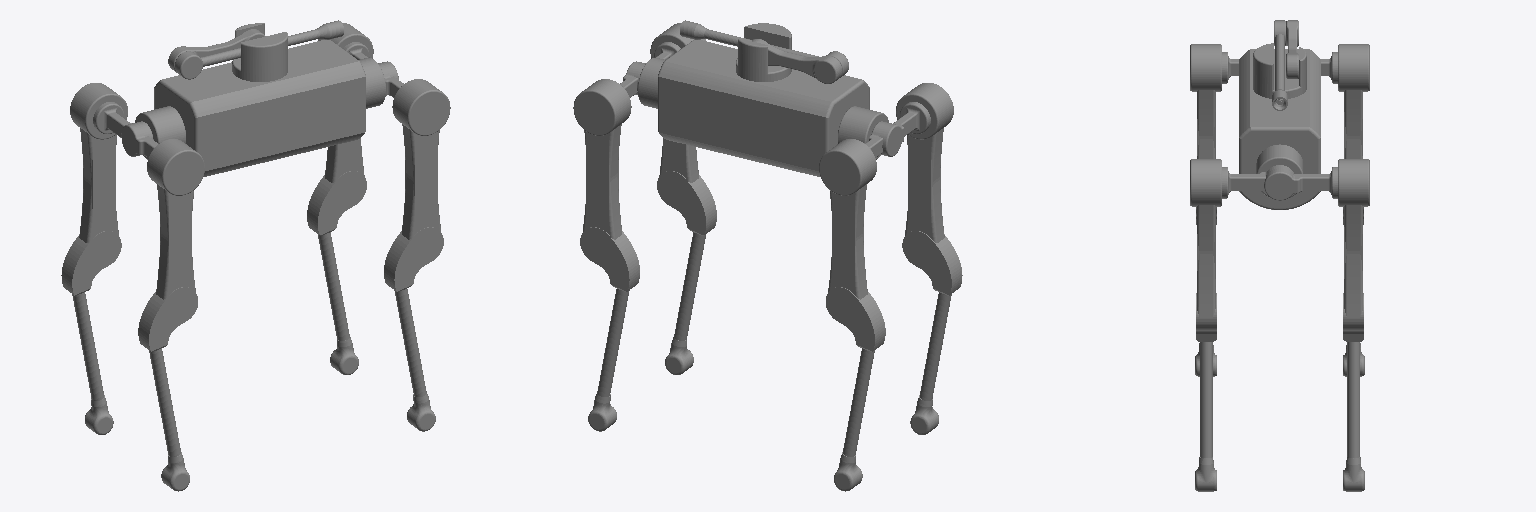
--- Render facts (derived) ---
3 views of the same robot in one strip: view 1: azimuth 30°, elevation 25°; view 2: azimuth 150°, elevation 25°; view 3: azimuth 270°, elevation 25° (orthographic).
Robot: argos — 25 links, 24 joints (12 revolute, 12 fixed); root link argos/base_link; default pose: every joint at zero.
Visible links, largest first — view 1: argos/base_link, LF_lower_leg, RF_lower_leg, LH_lower_leg, RH_lower_leg, LH_upper_leg, RF_upper_leg, RH_upper_leg, RH_hip, RF_hip, LH_hip, manipulator_joint (+4 smaller); view 2: argos/base_link, RF_lower_leg, LF_lower_leg, LH_lower_leg, RH_lower_leg, RH_upper_leg, LF_upper_leg, LH_upper_leg, RH_hip, LF_hip, LH_hip, manipulator_joint (+4 smaller); view 3: argos/base_link, LF_hip, LF_lower_leg, RF_lower_leg, RF_hip, LF_upper_leg, RF_upper_leg, LH_hip, RH_hip, manipulator_joint, LH_upper_leg, RH_upper_leg (+2 smaller).
Boxes of the visible links, left/top/right/bottom form: argos/base_link: left=135, top=40, right=385, bottom=176; LF_lower_leg: left=307, top=171, right=366, bottom=374; RF_lower_leg: left=384, top=227, right=443, bottom=431; LH_lower_leg: left=61, top=231, right=121, bottom=434; RH_lower_leg: left=138, top=287, right=197, bottom=491; LH_upper_leg: left=79, top=128, right=118, bottom=242; RF_upper_leg: left=402, top=124, right=440, bottom=239; RH_upper_leg: left=156, top=184, right=195, bottom=299; RH_hip: left=121, top=123, right=204, bottom=195; RF_hip: left=378, top=63, right=450, bottom=135; LH_hip: left=70, top=83, right=153, bottom=139; manipulator_joint: left=232, top=23, right=287, bottom=81; argos/base_link: left=638, top=40, right=888, bottom=176; RF_lower_leg: left=657, top=171, right=716, bottom=374; LF_lower_leg: left=580, top=227, right=639, bottom=431; LH_lower_leg: left=826, top=287, right=885, bottom=491; RH_lower_leg: left=902, top=231, right=962, bottom=434; RH_upper_leg: left=905, top=128, right=944, bottom=242; LF_upper_leg: left=583, top=124, right=621, bottom=239; LH_upper_leg: left=828, top=184, right=867, bottom=299; RH_hip: left=879, top=83, right=953, bottom=156; LF_hip: left=573, top=61, right=642, bottom=135; LH_hip: left=819, top=121, right=887, bottom=195; manipulator_joint: left=736, top=23, right=791, bottom=81; argos/base_link: left=1239, top=49, right=1320, bottom=209; LF_hip: left=1264, top=159, right=1369, bottom=206; LF_lower_leg: left=1343, top=293, right=1364, bottom=491; RF_lower_leg: left=1195, top=293, right=1216, bottom=491; RF_hip: left=1190, top=159, right=1293, bottom=206; LF_upper_leg: left=1344, top=205, right=1362, bottom=317; RF_upper_leg: left=1197, top=205, right=1215, bottom=317; LH_hip: left=1321, top=44, right=1369, bottom=91; RH_hip: left=1190, top=44, right=1238, bottom=91; manipulator_joint: left=1253, top=43, right=1306, bottom=98; LH_upper_leg: left=1344, top=90, right=1362, bottom=158; RH_upper_leg: left=1197, top=90, right=1215, bottom=158.
Bounding box of the posed robot: 1.05 × 0.5666 × 1.32 m (x, y, z).
16 mesh visuals loaded from 8 distinct referenced files (7 Collada DAE); not drawn: 1 (reference not matched to a file when rendering).

The robot description file, URDF, robot "argos":
<?xml version="1.0" ?>
<!-- =================================================================================== -->
<!-- |    This document was autogenerated by xacro from argos.urdf.xacro               | -->
<!-- |    EDITING THIS FILE BY HAND IS NOT RECOMMENDED                                 | -->
<!-- =================================================================================== -->
<robot name="argos">
  <link name="argos/base_link">
    <visual>
      <geometry>
        <mesh filename="package://mini_project/meshes/body.dae" scale="0.001 0.001 0.001"/>
      </geometry>
      <origin rpy="1.570796326794895 0 0" xyz="0.0 0.0 0.0"/>
    </visual>
    <collision>
      <geometry>
        <mesh filename="package://mini_project/meshes/body.dae" scale="0.001 0.001 0.001"/>
      </geometry>
      <origin rpy="1.570796326794895 0 0" xyz="0.0 0.0 0.0"/>
    </collision>
  </link>
  <link name="base_inertia">
    <inertial>
      <origin xyz="0 0 -0.00722624877"/>
      <mass value="44.88560358"/>
      <inertia ixx="0.47331170488629" ixy="0.0" ixz="0.0" iyy="1.92964600184763" iyz="0.0" izz="1.88984590052932"/>
    </inertial>
  </link>
  <joint name="base_link_to_base_inertia" type="fixed">
    <parent link="argos/base_link"/>
    <child link="base_inertia"/>
    <origin rpy="0 0 0" xyz="0 0 0"/>
  </joint>
  <material name="zed_mat">
    <color rgba="0.8 0.8 0.8 0.8"/>
  </material>
  <material name="zedm_mat">
    <color rgba="0 0 0 0.9"/>
  </material>
  <material name="zed2_mat">
    <color rgba="0.25 0.25 0.25 0.99"/>
  </material>
  <material name="zed2i_mat">
    <color rgba="0.25 0.25 0.25 0.99"/>
  </material>
  <!-- Arguments -->
  <!-- Camera Center -->
  <joint name="camera_center_joint" type="fixed">
    <parent link="argos/base_link"/>
    <child link="camera_center"/>
    <origin rpy="0.0 0.0 0.0" xyz="0.31 0.0 0.12"/>
  </joint>
  <link name="camera_center">
    <visual>
      <origin rpy="0 0 0" xyz="0 0 0"/>
      <geometry>
        <mesh filename="package://mini_project/meshes/zed2.stl"/>
      </geometry>
      <material name="zed2_mat"/>
    </visual>
  </link>
  <!-- Left Camera -->
  <joint name="left_camera_joint" type="fixed">
    <parent link="camera_center"/>
    <child link="left_camera_frame"/>
    <origin rpy="0 0 0" xyz="0 0.06 0"/>
  </joint>
  <link name="left_camera_frame"/>
  <joint name="left_camera_optical_joint" type="fixed">
    <origin rpy="-1.5707963267948966 0.0 -1.5707963267948966" xyz="0 0 0"/>
    <parent link="left_camera_frame"/>
    <child link="left_camera_optical_frame"/>
  </joint>
  <link name="left_camera_optical_frame"/>
  <gazebo reference="camera_center">
    <sensor name="stereo_camera" type="multicamera">
      <update_rate>30.0</update_rate>
      <camera name="left">
        <pose>0 0.06 0 0 0 0</pose>
        <horizontal_fov>1.91986218</horizontal_fov>
        <vertical_fov>1.22173048</vertical_fov>
        <diagonal_fov>2.0943951</diagonal_fov>
        <image>
          <width>1920</width>
          <height>1080</height>
          <format>B8G8R8</format>
        </image>
        <clip>
          <near>0.2</near>
          <far>20</far>
        </clip>
        <noise>
          <type>gaussian</type>
          <mean>0.0</mean>
          <stddev>0.007</stddev>
        </noise>
      </camera>
      <camera name="right">
        <pose>0 -0.06 0 0 0 0</pose>
        <horizontal_fov>1.91986218</horizontal_fov>
        <vertical_fov>1.22173048</vertical_fov>
        <diagonal_fov>2.0943951</diagonal_fov>
        <image>
          <width>1920</width>
          <height>1080</height>
          <format>B8G8R8</format>
        </image>
        <clip>
          <near>0.2</near>
          <far>20</far>
        </clip>
        <noise>
          <type>gaussian</type>
          <mean>0.0</mean>
          <stddev>0.007</stddev>
        </noise>
      </camera>
      <plugin filename="libgazebo_ros_multicamera.so" name="stereo_camera_controller">
        <alwaysOn>true</alwaysOn>
        <updateRate>0.0</updateRate>
        <cameraName>camera</cameraName>
        <imageTopicName>image_raw</imageTopicName>
        <cameraInfoTopicName>camera_info</cameraInfoTopicName>
        <frameName>camera_center</frameName>
        <!--<rightFrameName>right_camera_optical_frame</rightFrameName>-->
        <hackBaseline>0.07</hackBaseline>
        <distortionK1>0.0</distortionK1>
        <distortionK2>0.0</distortionK2>
        <distortionK3>0.0</distortionK3>
        <distortionT1>0.0</distortionT1>
        <distortionT2>0.0</distortionT2>
      </plugin>
    </sensor>
  </gazebo>
  <gazebo>
    <plugin filename="libhector_gazebo_ros_imu.so" name="imu_controller">
      <updateRate>50.0</updateRate>
      <bodyName>imu_link</bodyName>
      <topicName>imu/data</topicName>
      <accelDrift>0.005 0.005 0.005</accelDrift>
      <accelGaussianNoise>0.005 0.005 0.005</accelGaussianNoise>
      <rateDrift>0.005 0.005 0.005 </rateDrift>
      <rateGaussianNoise>0.005 0.005 0.005 </rateGaussianNoise>
      <headingDrift>0.005</headingDrift>
      <headingGaussianNoise>0.005</headingGaussianNoise>
    </plugin>
  </gazebo>
  <link name="imu_link">
    <inertial>
      <mass value="0.001"/>
      <origin rpy="0 0 0" xyz="0 0 0"/>
      <inertia ixx="1e-09" ixy="0.0" ixz="0.0" iyy="1e-09" iyz="0.0" izz="1e-09"/>
    </inertial>
  </link>
  <joint name="imu_joint" type="fixed">
    <parent link="argos/base_link"/>
    <child link="imu_link"/>
  </joint>
  <gazebo reference="argos/base_link">
    <material>Gazebo/FlatBlack</material>
  </gazebo>
  <link name="LF_hip">
    <inertial>
      <origin rpy="0 0 0" xyz="0.0016034699 0.19560047521 0.0"/>
      <mass value="2.3384038"/>
      <inertia ixx="0.01771591024568" ixy="-0.0007189101332" ixz="5.151e-11" iyy="0.00540298667217" iyz="1.6635e-10" izz="0.0176133294309"/>
    </inertial>
    <visual>
      <geometry>
        <mesh filename="package://mini_project/meshes/thigh.dae" scale="0.001 0.001 0.001"/>
      </geometry>
      <origin rpy="1.570796326794895 0.0 1.570796326794895" xyz="0.0 0.0 0.0"/>
    </visual>
    <collision>
      <geometry>
        <mesh filename="package://mini_project/meshes/thigh.dae" scale="0.001 0.001 0.001"/>
      </geometry>
      <origin rpy="1.570796326794895 0.0 1.570796326794895" xyz="0.0 0.0 0.0"/>
    </collision>
  </link>
  <gazebo reference="LF_hip">
    <material>Gazebo/Orange</material>
  </gazebo>
  <link name="LF_upper_leg">
    <inertial>
      <origin rpy="0 0 0" xyz="0.0 0.0 -0.19777343"/>
      <mass value="2.90604712"/>
      <inertia ixx="0.07057863" ixy="0.0" ixz="0.0" iyy="0.07214686" iyz="0.0" izz="0.00313293"/>
    </inertial>
    <visual>
      <geometry>
        <mesh filename="package://mini_project/meshes/upper_leg.dae" scale="0.001 0.001 0.001"/>
      </geometry>
      <origin rpy="1.570796326794895 -1.570796326794895 0" xyz="0.0 0.0 0.0"/>
    </visual>
    <collision>
      <geometry>
        <mesh filename="package://mini_project/meshes/upper_leg.dae" scale="0.001 0.001 0.001"/>
      </geometry>
      <origin rpy="1.570796326794895 -1.570796326794895 0" xyz="0.0 0.0 0.0"/>
    </collision>
  </link>
  <gazebo reference="LF_upper_leg">
    <material>Gazebo/Green</material>
  </gazebo>
  <link name="LF_lower_leg">
    <inertial>
      <origin rpy="0 0 0" xyz="-0.02510293 0.0 -0.15457863"/>
      <mass value="1.81736395"/>
      <inertia ixx="0.0938058" ixy="0.0" ixz="-0.00320577" iyy="0.09632913" iyz="0.0" izz="0.00375697"/>
    </inertial>
    <visual>
      <geometry>
        <mesh filename="package://mini_project/meshes/lower_leg.dae" scale="0.001 0.001 0.001"/>
      </geometry>
      <origin rpy="1.570796326794895 1.3878360357948951 0" xyz="0 0.0 0"/>
    </visual>
    <collision>
      <geometry>
        <mesh filename="package://mini_project/meshes/lower_leg.dae" scale="0.001 0.001 0.001"/>
      </geometry>
      <origin rpy="1.570796326794895 1.3878360357948951 0" xyz="0 0.0 0"/>
    </collision>
  </link>
  <gazebo reference="LF_lower_leg">
    <kp>10000000.0</kp>
    <kd>1.0</kd>
    <mu1>0.9</mu1>
    <mu2>0.9</mu2>
    <minDepth>0.005</minDepth>
    <maxContacts>1</maxContacts>
    <material>Gazebo/Red</material>
  </gazebo>
  <link name="LF_foot"/>
  <joint name="LF_hip_joint" type="revolute">
    <parent link="argos/base_link"/>
    <child link="LF_hip"/>
    <axis xyz="1.0 0.0 0.0"/>
    <origin xyz="0.43 0.0 0.0"/>
    <limit effort="150" lower="-3.14159265358979" upper="3.14159265358979" velocity="10"/>
    <dynamics damping="0.0" friction="0.0"/>
  </joint>
  <joint name="LF_upper_leg_joint" type="revolute">
    <parent link="LF_hip"/>
    <child link="LF_upper_leg"/>
    <axis xyz="0.0 1.0  0.0"/>
    <origin xyz="0.0 0.233 0.0"/>
    <limit effort="150" lower="-3.14159265358979" upper="3.14159265358979" velocity="10"/>
    <dynamics damping="0.0" friction="0.0"/>
  </joint>
  <joint name="LF_lower_leg_joint" type="revolute">
    <parent link="LF_upper_leg"/>
    <child link="LF_lower_leg"/>
    <axis xyz="0.0 1.0  0.0"/>
    <origin xyz="0.0 0.0 -0.45"/>
    <limit effort="150" lower="-3.14159265358979" upper="3.14159265358979" velocity="10"/>
    <dynamics damping="0.0" friction="0.0"/>
  </joint>
  <joint name="LF_foot_joint" type="fixed">
    <parent link="LF_lower_leg"/>
    <child link="LF_foot"/>
    <origin xyz="-0.0 0.0 -0.61"/>
  </joint>
  <transmission name="LF_hip_joint_trans">
    <type>transmission_interface/SimpleTransmission</type>
    <joint name="LF_hip_joint">
      <hardwareInterface>hardware_interface/EffortJointInterface</hardwareInterface>
    </joint>
    <actuator name="LF_hip_joint_motor">
      <hardwareInterface>hardware_interface/EffortJointInterface</hardwareInterface>
      <mechanicalReduction>1</mechanicalReduction>
    </actuator>
  </transmission>
  <transmission name="LF_upper_leg_joint_trans">
    <type>transmission_interface/SimpleTransmission</type>
    <joint name="LF_upper_leg_joint">
      <hardwareInterface>hardware_interface/EffortJointInterface</hardwareInterface>
    </joint>
    <actuator name="LF_upper_leg_joint_motor">
      <hardwareInterface>hardware_interface/EffortJointInterface</hardwareInterface>
      <mechanicalReduction>1</mechanicalReduction>
    </actuator>
  </transmission>
  <transmission name="LF_lower_leg_joint_trans">
    <type>transmission_interface/SimpleTransmission</type>
    <joint name="LF_lower_leg_joint">
      <hardwareInterface>hardware_interface/EffortJointInterface</hardwareInterface>
    </joint>
    <actuator name="LF_lower_joint_motor">
      <hardwareInterface>hardware_interface/EffortJointInterface</hardwareInterface>
      <mechanicalReduction>1</mechanicalReduction>
    </actuator>
  </transmission>
  <link name="RF_hip">
    <inertial>
      <origin rpy="0 0 0" xyz="-0.0016034699 -0.19560047521 0.0"/>
      <mass value="2.3384038"/>
      <inertia ixx="0.01771591024568" ixy="-0.0007189101332" ixz="5.151e-11" iyy="0.00540298667217" iyz="1.6635e-10" izz="0.0176133294309"/>
    </inertial>
    <visual>
      <geometry>
        <mesh filename="package://mini_project/meshes/thigh.dae" scale="0.001 0.001 0.001"/>
      </geometry>
      <origin rpy="1.570796326794895 0.0 -1.570796326794895" xyz="0.0 0.0 0.0"/>
    </visual>
    <collision>
      <geometry>
        <mesh filename="package://mini_project/meshes/thigh.dae" scale="0.001 0.001 0.001"/>
      </geometry>
      <origin rpy="1.570796326794895 0.0 -1.570796326794895" xyz="0.0 0.0 0.0"/>
    </collision>
  </link>
  <gazebo reference="RF_hip">
    <material>Gazebo/Orange</material>
  </gazebo>
  <link name="RF_upper_leg">
    <inertial>
      <origin rpy="0 0 0" xyz="0.0 0.0 -0.19777343"/>
      <mass value="2.90604712"/>
      <inertia ixx="0.07057863" ixy="-0.0" ixz="0.0" iyy="0.07214686" iyz="-0.0" izz="0.00313293"/>
    </inertial>
    <visual>
      <geometry>
        <mesh filename="package://mini_project/meshes/upper_leg.dae" scale="0.001 0.001 0.001"/>
      </geometry>
      <origin rpy="1.570796326794895 -1.570796326794895 0" xyz="0.0 0.0 0.0"/>
    </visual>
    <collision>
      <geometry>
        <mesh filename="package://mini_project/meshes/upper_leg.dae" scale="0.001 0.001 0.001"/>
      </geometry>
      <origin rpy="1.570796326794895 -1.570796326794895 0" xyz="0.0 0.0 0.0"/>
    </collision>
  </link>
  <gazebo reference="RF_upper_leg">
    <material>Gazebo/Green</material>
  </gazebo>
  <link name="RF_lower_leg">
    <inertial>
      <origin rpy="0 0 0" xyz="-0.02510293 0.0 -0.15457863"/>
      <mass value="1.81736395"/>
      <inertia ixx="0.0938058" ixy="0.0" ixz="-0.00320577" iyy="0.09632913" iyz="0.0" izz="0.00375697"/>
    </inertial>
    <visual>
      <geometry>
        <mesh filename="package://mini_project/meshes/lower_leg.dae" scale="0.001 0.001 0.001"/>
      </geometry>
      <origin rpy="1.570796326794895 1.3878360357948951 0" xyz="0 0.0 0"/>
    </visual>
    <collision>
      <geometry>
        <mesh filename="package://mini_project/meshes/lower_leg.dae" scale="0.001 0.001 0.001"/>
      </geometry>
      <origin rpy="1.570796326794895 1.3878360357948951 0" xyz="0 0.0 0"/>
    </collision>
  </link>
  <gazebo reference="RF_lower_leg">
    <kp>10000000.0</kp>
    <kd>1.0</kd>
    <mu1>0.9</mu1>
    <mu2>0.9</mu2>
    <minDepth>0.005</minDepth>
    <maxContacts>1</maxContacts>
    <material>Gazebo/Red</material>
  </gazebo>
  <link name="RF_foot"/>
  <joint name="RF_hip_joint" type="revolute">
    <parent link="argos/base_link"/>
    <child link="RF_hip"/>
    <axis xyz="1.0 0.0 0.0"/>
    <origin xyz="0.43 0.0 0.0"/>
    <limit effort="150" lower="-3.14159265358979" upper="3.14159265358979" velocity="10"/>
    <dynamics damping="0.0" friction="0.0"/>
  </joint>
  <joint name="RF_upper_leg_joint" type="revolute">
    <parent link="RF_hip"/>
    <child link="RF_upper_leg"/>
    <axis xyz="0.0 1.0  0.0"/>
    <origin xyz="0.0 -0.233 0.0"/>
    <limit effort="150" lower="-3.14159265358979" upper="3.14159265358979" velocity="10"/>
    <dynamics damping="0.0" friction="0.0"/>
  </joint>
  <joint name="RF_lower_leg_joint" type="revolute">
    <parent link="RF_upper_leg"/>
    <child link="RF_lower_leg"/>
    <axis xyz="0.0 1.0  0.0"/>
    <origin xyz="0.0 0.0 -0.45"/>
    <limit effort="150" lower="-3.14159265358979" upper="3.14159265358979" velocity="10"/>
    <dynamics damping="0.0" friction="0.0"/>
  </joint>
  <joint name="RF_foot_joint" type="fixed">
    <parent link="RF_lower_leg"/>
    <child link="RF_foot"/>
    <origin xyz="-0.0 0.0 -0.61"/>
  </joint>
  <transmission name="RF_hip_joint_trans">
    <type>transmission_interface/SimpleTransmission</type>
    <joint name="RF_hip_joint">
      <hardwareInterface>hardware_interface/EffortJointInterface</hardwareInterface>
    </joint>
    <actuator name="RF_hip_joint_motor">
      <hardwareInterface>hardware_interface/EffortJointInterface</hardwareInterface>
      <mechanicalReduction>1</mechanicalReduction>
    </actuator>
  </transmission>
  <transmission name="RF_upper_leg_joint_trans">
    <type>transmission_interface/SimpleTransmission</type>
    <joint name="RF_upper_leg_joint">
      <hardwareInterface>hardware_interface/EffortJointInterface</hardwareInterface>
    </joint>
    <actuator name="RF_upper_leg_joint_motor">
      <hardwareInterface>hardware_interface/EffortJointInterface</hardwareInterface>
      <mechanicalReduction>1</mechanicalReduction>
    </actuator>
  </transmission>
  <transmission name="RF_lower_leg_joint_trans">
    <type>transmission_interface/SimpleTransmission</type>
    <joint name="RF_lower_leg_joint">
      <hardwareInterface>hardware_interface/EffortJointInterface</hardwareInterface>
    </joint>
    <actuator name="RF_lower_joint_motor">
      <hardwareInterface>hardware_interface/EffortJointInterface</hardwareInterface>
      <mechanicalReduction>1</mechanicalReduction>
    </actuator>
  </transmission>
  <link name="LH_hip">
    <inertial>
      <origin rpy="0 0 0" xyz="0.0016034699 0.19560047521 0.0"/>
      <mass value="2.3384038"/>
      <inertia ixx="0.01771591024568" ixy="-0.0007189101332" ixz="5.151e-11" iyy="0.00540298667217" iyz="1.6635e-10" izz="0.0176133294309"/>
    </inertial>
    <visual>
      <geometry>
        <mesh filename="package://mini_project/meshes/thigh.dae" scale="0.001 0.001 0.001"/>
      </geometry>
      <origin rpy="1.570796326794895 0.0 1.570796326794895" xyz="0.0 0.0 0.0"/>
    </visual>
    <collision>
      <geometry>
        <mesh filename="package://mini_project/meshes/thigh.dae" scale="0.001 0.001 0.001"/>
      </geometry>
      <origin rpy="1.570796326794895 0.0 1.570796326794895" xyz="0.0 0.0 0.0"/>
    </collision>
  </link>
  <gazebo reference="LH_hip">
    <material>Gazebo/Orange</material>
  </gazebo>
  <link name="LH_upper_leg">
    <inertial>
      <origin rpy="0 0 0" xyz="0.0 0.0 -0.19777343"/>
      <mass value="2.90604712"/>
      <inertia ixx="0.07057863" ixy="0.0" ixz="0.0" iyy="0.07214686" iyz="0.0" izz="0.00313293"/>
    </inertial>
    <visual>
      <geometry>
        <mesh filename="package://mini_project/meshes/upper_leg.dae" scale="0.001 0.001 0.001"/>
      </geometry>
      <origin rpy="1.570796326794895 -1.570796326794895 0" xyz="0.0 0.0 0.0"/>
    </visual>
    <collision>
      <geometry>
        <mesh filename="package://mini_project/meshes/upper_leg.dae" scale="0.001 0.001 0.001"/>
      </geometry>
      <origin rpy="1.570796326794895 -1.570796326794895 0" xyz="0.0 0.0 0.0"/>
    </collision>
  </link>
  <gazebo reference="LH_upper_leg">
    <material>Gazebo/Green</material>
  </gazebo>
  <link name="LH_lower_leg">
    <inertial>
      <origin rpy="0 0 0" xyz="-0.02510293 0.0 -0.15457863"/>
      <mass value="1.81736395"/>
      <inertia ixx="0.0938058" ixy="0.0" ixz="-0.00320577" iyy="0.09632913" iyz="0.0" izz="0.00375697"/>
    </inertial>
    <visual>
      <geometry>
        <mesh filename="package://mini_project/meshes/lower_leg.dae" scale="0.001 0.001 0.001"/>
      </geometry>
      <origin rpy="1.570796326794895 1.3878360357948951 0" xyz="0 0.0 0"/>
    </visual>
    <collision>
      <geometry>
        <mesh filename="package://mini_project/meshes/lower_leg.dae" scale="0.001 0.001 0.001"/>
      </geometry>
      <origin rpy="1.570796326794895 1.3878360357948951 0" xyz="0 0.0 0"/>
    </collision>
  </link>
  <gazebo reference="LH_lower_leg">
    <kp>10000000.0</kp>
    <kd>1.0</kd>
    <mu1>0.9</mu1>
    <mu2>0.9</mu2>
    <minDepth>0.005</minDepth>
    <maxContacts>1</maxContacts>
    <material>Gazebo/Red</material>
  </gazebo>
  <link name="LH_foot"/>
  <joint name="LH_hip_joint" type="revolute">
    <parent link="argos/base_link"/>
    <child link="LH_hip"/>
    <axis xyz="1.0 0.0 0.0"/>
    <origin xyz="-0.43 0.0 0.0"/>
    <limit effort="150" lower="-3.14159265358979" upper="3.14159265358979" velocity="10"/>
    <dynamics damping="0.0" friction="0.0"/>
  </joint>
  <joint name="LH_upper_leg_joint" type="revolute">
    <parent link="LH_hip"/>
    <child link="LH_upper_leg"/>
    <axis xyz="0.0 1.0  0.0"/>
    <origin xyz="0.0 0.233 0.0"/>
    <limit effort="150" lower="-3.14159265358979" upper="3.14159265358979" velocity="10"/>
    <dynamics damping="0.0" friction="0.0"/>
  </joint>
  <joint name="LH_lower_leg_joint" type="revolute">
    <parent link="LH_upper_leg"/>
    <child link="LH_lower_leg"/>
    <axis xyz="0.0 1.0  0.0"/>
    <origin xyz="0.0 0.0 -0.45"/>
    <limit effort="150" lower="-3.14159265358979" upper="3.14159265358979" velocity="10"/>
    <dynamics damping="0.0" friction="0.0"/>
  </joint>
  <joint name="LH_foot_joint" type="fixed">
    <parent link="LH_lower_leg"/>
    <child link="LH_foot"/>
    <origin xyz="-0.0 0.0 -0.61"/>
  </joint>
  <transmission name="LH_hip_joint_trans">
    <type>transmission_interface/SimpleTransmission</type>
    <joint name="LH_hip_joint">
      <hardwareInterface>hardware_interface/EffortJointInterface</hardwareInterface>
    </joint>
    <actuator name="LH_hip_joint_motor">
      <hardwareInterface>hardware_interface/EffortJointInterface</hardwareInterface>
      <mechanicalReduction>1</mechanicalReduction>
    </actuator>
  </transmission>
  <transmission name="LH_upper_leg_joint_trans">
    <type>transmission_interface/SimpleTransmission</type>
    <joint name="LH_upper_leg_joint">
      <hardwareInterface>hardware_interface/EffortJointInterface</hardwareInterface>
    </joint>
    <actuator name="LH_upper_leg_joint_motor">
      <hardwareInterface>hardware_interface/EffortJointInterface</hardwareInterface>
      <mechanicalReduction>1</mechanicalReduction>
    </actuator>
  </transmission>
  <transmission name="LH_lower_leg_joint_trans">
    <type>transmission_interface/SimpleTransmission</type>
    <joint name="LH_lower_leg_joint">
      <hardwareInterface>hardware_interface/EffortJointInterface</hardwareInterface>
    </joint>
    <actuator name="LH_lower_joint_motor">
      <hardwareInterface>hardware_interface/EffortJointInterface</hardwareInterface>
      <mechanicalReduction>1</mechanicalReduction>
    </actuator>
  </transmission>
  <link name="RH_hip">
    <inertial>
      <origin rpy="0 0 0" xyz="-0.0016034699 -0.19560047521 0.0"/>
      <mass value="2.3384038"/>
      <inertia ixx="0.01771591024568" ixy="-0.0007189101332" ixz="5.151e-11" iyy="0.00540298667217" iyz="1.6635e-10" izz="0.0176133294309"/>
    </inertial>
    <visual>
      <geometry>
        <mesh filename="package://mini_project/meshes/thigh.dae" scale="0.001 0.001 0.001"/>
      </geometry>
      <origin rpy="1.570796326794895 0.0 -1.570796326794895" xyz="0.0 0.0 0.0"/>
    </visual>
    <collision>
      <geometry>
        <mesh filename="package://mini_project/meshes/thigh.dae" scale="0.001 0.001 0.001"/>
      </geometry>
      <origin rpy="1.570796326794895 0.0 -1.570796326794895" xyz="0.0 0.0 0.0"/>
    </collision>
  </link>
  <gazebo reference="RH_hip">
    <material>Gazebo/Orange</material>
  </gazebo>
  <link name="RH_upper_leg">
    <inertial>
      <origin rpy="0 0 0" xyz="0.0 0.0 -0.19777343"/>
      <mass value="2.90604712"/>
      <inertia ixx="0.07057863" ixy="-0.0" ixz="0.0" iyy="0.07214686" iyz="-0.0" izz="0.00313293"/>
    </inertial>
    <visual>
      <geometry>
        <mesh filename="package://mini_project/meshes/upper_leg.dae" scale="0.001 0.001 0.001"/>
      </geometry>
      <origin rpy="1.570796326794895 -1.570796326794895 0" xyz="0.0 0.0 0.0"/>
    </visual>
    <collision>
      <geometry>
        <mesh filename="package://mini_project/meshes/upper_leg.dae" scale="0.001 0.001 0.001"/>
      </geometry>
      <origin rpy="1.570796326794895 -1.570796326794895 0" xyz="0.0 0.0 0.0"/>
    </collision>
  </link>
  <gazebo reference="RH_upper_leg">
    <material>Gazebo/Green</material>
  </gazebo>
  <link name="RH_lower_leg">
    <inertial>
      <origin rpy="0 0 0" xyz="-0.02510293 0.0 -0.15457863"/>
      <mass value="1.81736395"/>
      <inertia ixx="0.0938058" ixy="0.0" ixz="-0.00320577" iyy="0.09632913" iyz="0.0" izz="0.00375697"/>
    </inertial>
    <visual>
      <geometry>
        <mesh filename="package://mini_project/meshes/lower_leg.dae" scale="0.001 0.001 0.001"/>
      </geometry>
      <origin rpy="1.570796326794895 1.3878360357948951 0" xyz="0 0.0 0"/>
    </visual>
    <collision>
      <geometry>
        <mesh filename="package://mini_project/meshes/lower_leg.dae" scale="0.001 0.001 0.001"/>
      </geometry>
      <origin rpy="1.570796326794895 1.3878360357948951 0" xyz="0 0.0 0"/>
    </collision>
  </link>
  <gazebo reference="RH_lower_leg">
    <kp>10000000.0</kp>
    <kd>1.0</kd>
    <mu1>0.9</mu1>
    <mu2>0.9</mu2>
    <minDepth>0.005</minDepth>
    <maxContacts>1</maxContacts>
    <material>Gazebo/Red</material>
  </gazebo>
  <link name="RH_foot"/>
  <joint name="RH_hip_joint" type="revolute">
    <parent link="argos/base_link"/>
    <child link="RH_hip"/>
    <axis xyz="1.0 0.0 0.0"/>
    <origin xyz="-0.43 0.0 0.0"/>
    <limit effort="150" lower="-3.14159265358979" upper="3.14159265358979" velocity="10"/>
    <dynamics damping="0.0" friction="0.0"/>
  </joint>
  <joint name="RH_upper_leg_joint" type="revolute">
    <parent link="RH_hip"/>
    <child link="RH_upper_leg"/>
    <axis xyz="0.0 1.0  0.0"/>
    <origin xyz="0.0 -0.233 0.0"/>
    <limit effort="150" lower="-3.14159265358979" upper="3.14159265358979" velocity="10"/>
    <dynamics damping="0.0" friction="0.0"/>
  </joint>
  <joint name="RH_lower_leg_joint" type="revolute">
    <parent link="RH_upper_leg"/>
    <child link="RH_lower_leg"/>
    <axis xyz="0.0 1.0  0.0"/>
    <origin xyz="0.0 0.0 -0.45"/>
    <limit effort="150" lower="-3.14159265358979" upper="3.14159265358979" velocity="10"/>
    <dynamics damping="0.0" friction="0.0"/>
  </joint>
  <joint name="RH_foot_joint" type="fixed">
    <parent link="RH_lower_leg"/>
    <child link="RH_foot"/>
    <origin xyz="-0.0 0.0 -0.61"/>
  </joint>
  <transmission name="RH_hip_joint_trans">
    <type>transmission_interface/SimpleTransmission</type>
    <joint name="RH_hip_joint">
      <hardwareInterface>hardware_interface/EffortJointInterface</hardwareInterface>
    </joint>
    <actuator name="RH_hip_joint_motor">
      <hardwareInterface>hardware_interface/EffortJointInterface</hardwareInterface>
      <mechanicalReduction>1</mechanicalReduction>
    </actuator>
  </transmission>
  <transmission name="RH_upper_leg_joint_trans">
    <type>transmission_interface/SimpleTransmission</type>
    <joint name="RH_upper_leg_joint">
      <hardwareInterface>hardware_interface/EffortJointInterface</hardwareInterface>
    </joint>
    <actuator name="RH_upper_leg_joint_motor">
      <hardwareInterface>hardware_interface/EffortJointInterface</hardwareInterface>
      <mechanicalReduction>1</mechanicalReduction>
    </actuator>
  </transmission>
  <transmission name="RH_lower_leg_joint_trans">
    <type>transmission_interface/SimpleTransmission</type>
    <joint name="RH_lower_leg_joint">
      <hardwareInterface>hardware_interface/EffortJointInterface</hardwareInterface>
    </joint>
    <actuator name="RH_lower_joint_motor">
      <hardwareInterface>hardware_interface/EffortJointInterface</hardwareInterface>
      <mechanicalReduction>1</mechanicalReduction>
    </actuator>
  </transmission>
  <link name="manipulator_joint">
    <inertial>
      <origin xyz="0.0001195 -0.01132600777 0.04996291284 "/>
      <mass value="1.63291158"/>
      <inertia ixx="0.00592368152307" ixy="-2.959529e-08" ixz="5.08195e-09" iyy="0.00455222665474" iyz="-0.00046066688062" izz="0.00630165344962"/>
    </inertial>
    <visual>
      <geometry>
        <mesh filename="package://mini_project/meshes/manipulator_joint.dae" scale="0.001 0.001 0.001"/>
      </geometry>
    </visual>
    <collision>
      <geometry>
        <mesh filename="package://mini_project/meshes/manipulator_joint.dae" scale="0.001 0.001 0.001"/>
      </geometry>
    </collision>
  </link>
  <link name="manipulator_segment_1">
    <inertial>
      <origin rpy="0 0.0 0" xyz="-0.12499144985 0.00000184653 0.0"/>
      <mass value="0.65721313"/>
      <inertia ixx="0.00029149081721" ixy="1.1029091e-07" ixz="-1.18e-11" iyy="0.00745356022911" iyz="-1.94e-12" izz="0.0073062230739"/>
    </inertial>
    <visual>
      <geometry>
        <mesh filename="package://mini_project/meshes/manipulator_segment_1.dae" scale="0.001 0.001 0.001"/>
      </geometry>
      <origin rpy="1.570796326794895 0.0 3.14159265358979" xyz="0.0 0.0 0.0"/>
    </visual>
    <collision>
      <geometry>
        <mesh filename="package://mini_project/meshes/manipulator_segment_1.dae" scale="0.001 0.001 0.001"/>
      </geometry>
      <origin rpy="1.570796326794895 0.0 3.14159265358979" xyz="0.0 0.0 0.0"/>
    </collision>
  </link>
  <link name="manipulator_segment_2">
    <inertial>
      <origin rpy="0 0 0.0" xyz="0.19438946797 0.0 0.00000001267"/>
      <mass value="0.45716422"/>
      <inertia ixx="0.00016867187941" ixy="-1.369e-11" ixz="1.84646e-09" iyy="0.02041441059327" iyz="9.3e-13" izz="0.02036185070001"/>
    </inertial>
    <visual>
      <geometry>
        <mesh filename="package://mini_project/meshes/manipulator_segment_2.dae" scale="0.001 0.001 0.001"/>
      </geometry>
      <origin rpy="1.570796326794895 3.14159265358979 0.0" xyz="0.0 0.0 0.0"/>
    </visual>
    <collision>
      <geometry>
        <mesh filename="package://mini_project/meshes/manipulator_segment_2.dae" scale="0.001 0.001 0.001"/>
      </geometry>
      <origin rpy="1.570796326794895 3.14159265358979 0.0" xyz="0.0 0.0 0.0"/>
    </collision>
  </link>
  <joint name="argos/base_link_to_manipulator_joint" type="fixed">
    <parent link="argos/base_link"/>
    <child link="manipulator_joint"/>
    <origin xyz="0.0 0.0 0.13"/>
  </joint>
  <joint name="manipulator_joint_to_manipulator_segment_1" type="fixed">
    <parent link="manipulator_joint"/>
    <child link="manipulator_segment_1"/>
    <origin rpy="0 0 0" xyz="0.0 0.04 0.075"/>
  </joint>
  <joint name="manipulator_segment_1_to_manipulator_segment_2" type="fixed">
    <parent link="manipulator_segment_1"/>
    <child link="manipulator_segment_2"/>
    <origin rpy="0.0 0.0 0.0" xyz="-0.25 -0.04 0.0"/>
  </joint>
  <gazebo>
    <plugin filename="libgazebo_ros_p3d.so" name="p3d_base_controller">
      <alwaysOn>true</alwaysOn>
      <updateRate>10.0</updateRate>
      <bodyName>argos/base_link</bodyName>
      <topicName>odom/ground_truth</topicName>
      <gaussianNoise>0.01</gaussianNoise>
      <frameName>world</frameName>
      <xyzOffsets>0 0 0</xyzOffsets>
      <rpyOffsets>0 0 0</rpyOffsets>
    </plugin>
  </gazebo>
  <gazebo>
    <plugin filename="libgazebo_ros_control.so" name="gazebo_ros_control">
      <legacyModeNS>true</legacyModeNS>
      <robotNamespace>/argos</robotNamespace>
    </plugin>
  </gazebo>
</robot>
